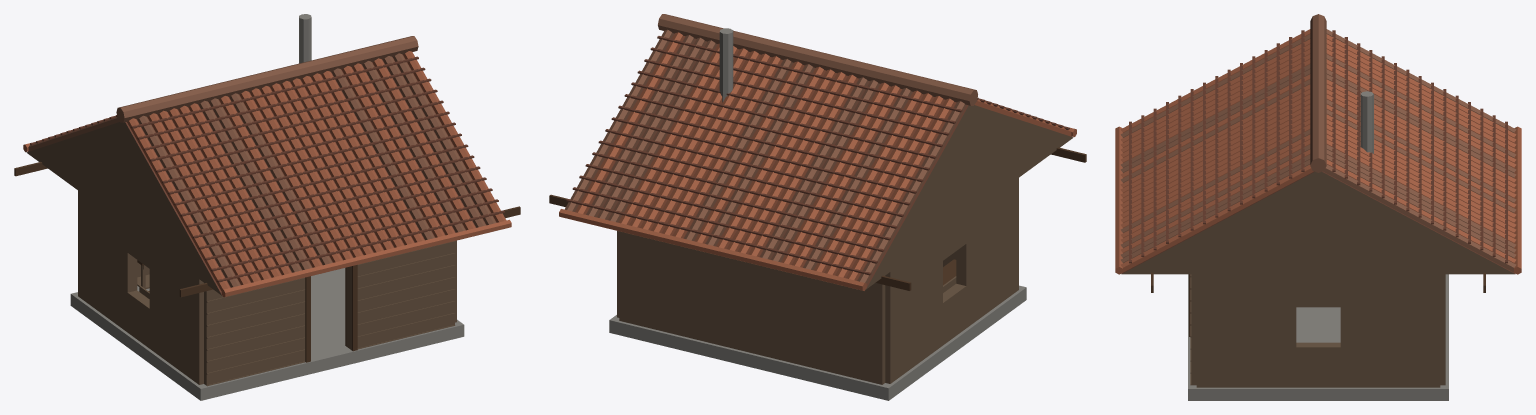
The model's file is SM_Kulube_6.fbx.
The picture shows the model from 3 angles, left to right: view 1: azimuth 30°, elevation 25°; view 2: azimuth 150°, elevation 25°; view 3: azimuth 270°, elevation 25°; orthographic projection. The views are drawn at different scales.
Parts seen in each view (by area): view 1: Kulube_6; view 2: Kulube_6; view 3: Kulube_6.
Part boxes in pixels (left/top/right/bottom): Kulube_6: left=14, top=14, right=520, bottom=400; Kulube_6: left=549, top=14, right=1086, bottom=400; Kulube_6: left=1115, top=14, right=1521, bottom=400.
Size of the model in its own units: 890 by 680 by 917.
